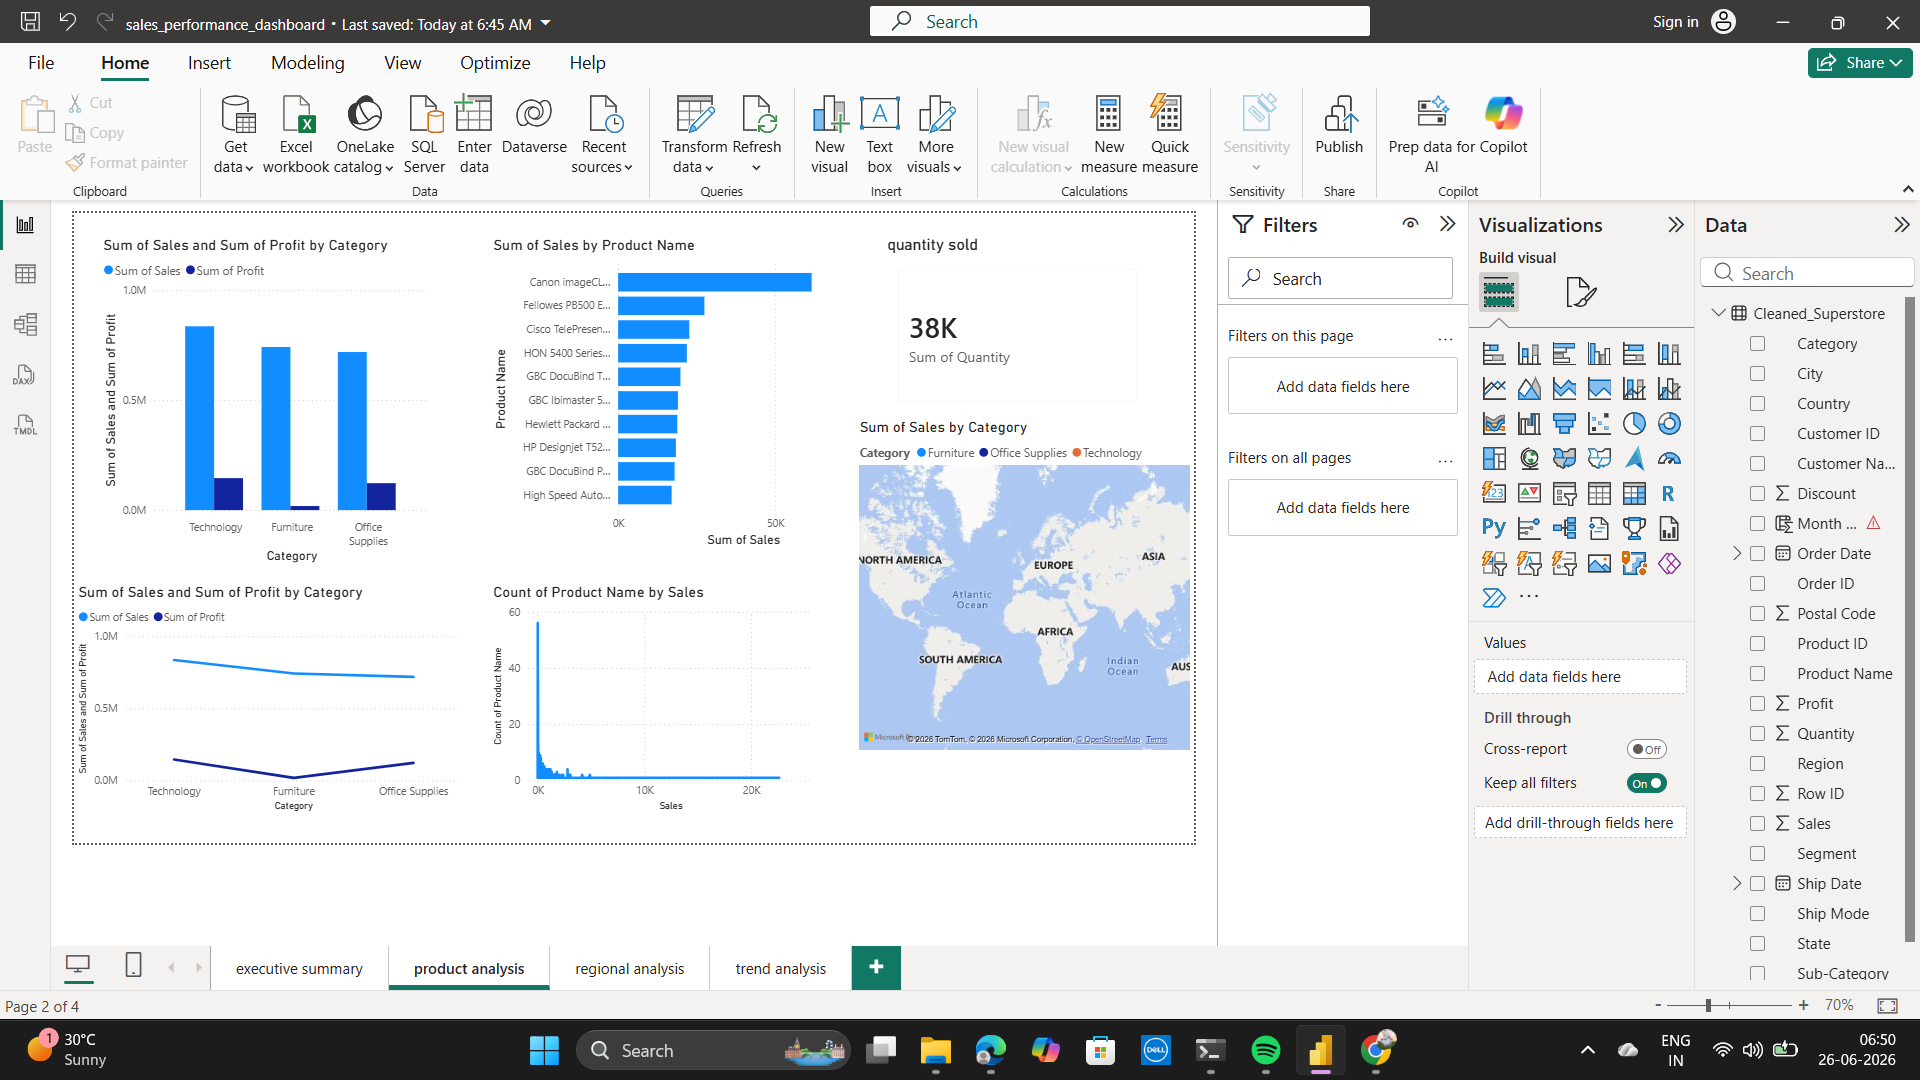

This screenshot's page, from the dashboard's own definition file:
{"tool":"powerbi","page":{"name":"product  analysis","canvas":[1280,720],"ordinal":1},"visuals":[{"type":"clusteredBarChart","fields":{"Category":["Cleaned_Superstore.Product Name"],"Y":["Sum(Cleaned_Superstore.Sales)"]},"box":[474.3,25.7,450,361.4],"z":0},{"type":"clusteredColumnChart","fields":{"Category":["Cleaned_Superstore.Category"],"Y":["Sum(Cleaned_Superstore.Sales)","Sum(Cleaned_Superstore.Profit)"]},"box":[28.6,25.7,382.9,378.6],"z":1000},{"type":"cardVisual","title":"quantity sold","fields":{"Data":["Sum(Cleaned_Superstore.Quantity)"]},"box":[924.3,25.7,308.6,208.6],"z":2000},{"type":"lineChart","fields":{"Category":["Cleaned_Superstore.Category"],"Y":["Sum(Cleaned_Superstore.Sales)","Sum(Cleaned_Superstore.Profit)"]},"box":[0,422.9,450,265.7],"z":2001},{"type":"lineChart","fields":{"Y":["CountNonNull(Cleaned_Superstore.Product Name)"],"Category":["Cleaned_Superstore.Sales"]},"box":[474.3,422.9,375.7,265.7],"z":2002},{"type":"map","fields":{"Series":["Cleaned_Superstore.Category"],"Size":["Sum(Cleaned_Superstore.Sales)"]},"box":[892.9,234.3,387.1,384.3],"z":2003}]}

Visuals, with their boxes on the page's 1280x720 design canvas (x1, y1, x2, y2). These are canvas units, not pixel positions in the 1920x1080 screenshot, which may show the page scaled, cropped or inside an application window:
clusteredBarChart - Cleaned_Superstore.Product Name x Sum(Cleaned_Superstore.Sales): 474/26/924/387
clusteredColumnChart - Cleaned_Superstore.Category x Sum(Cleaned_Superstore.Sales): 29/26/412/404
"quantity sold" cardVisual: 924/26/1233/234
lineChart - Cleaned_Superstore.Category x Sum(Cleaned_Superstore.Sales): 0/423/450/689
lineChart - CountNonNull(Cleaned_Superstore.Product Name) x Cleaned_Superstore.Sales: 474/423/850/689
map - Cleaned_Superstore.Category x Sum(Cleaned_Superstore.Sales): 893/234/1280/619
